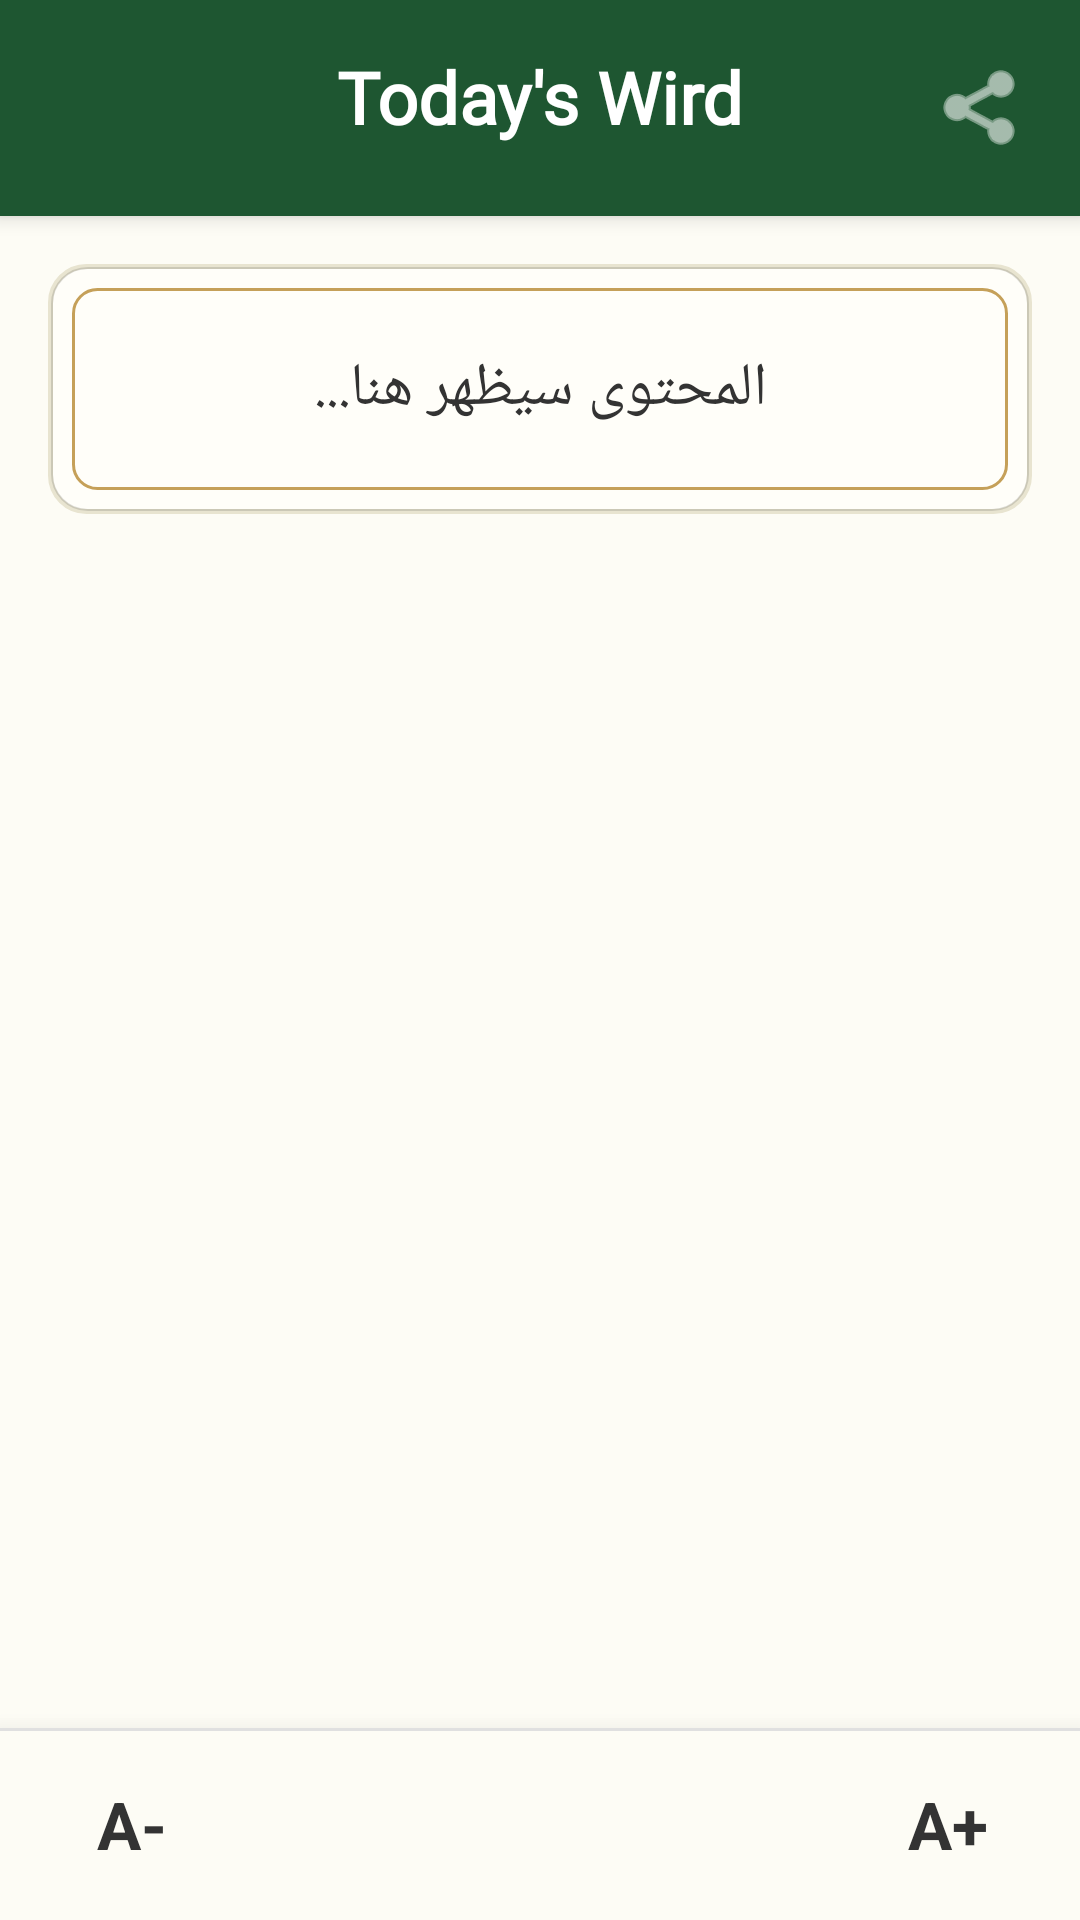

Named icons in this screenshot (1080x1920) and their bounding boxes, (x1, y1, x2, y2):
مشاركة: (943, 70, 1015, 145)
